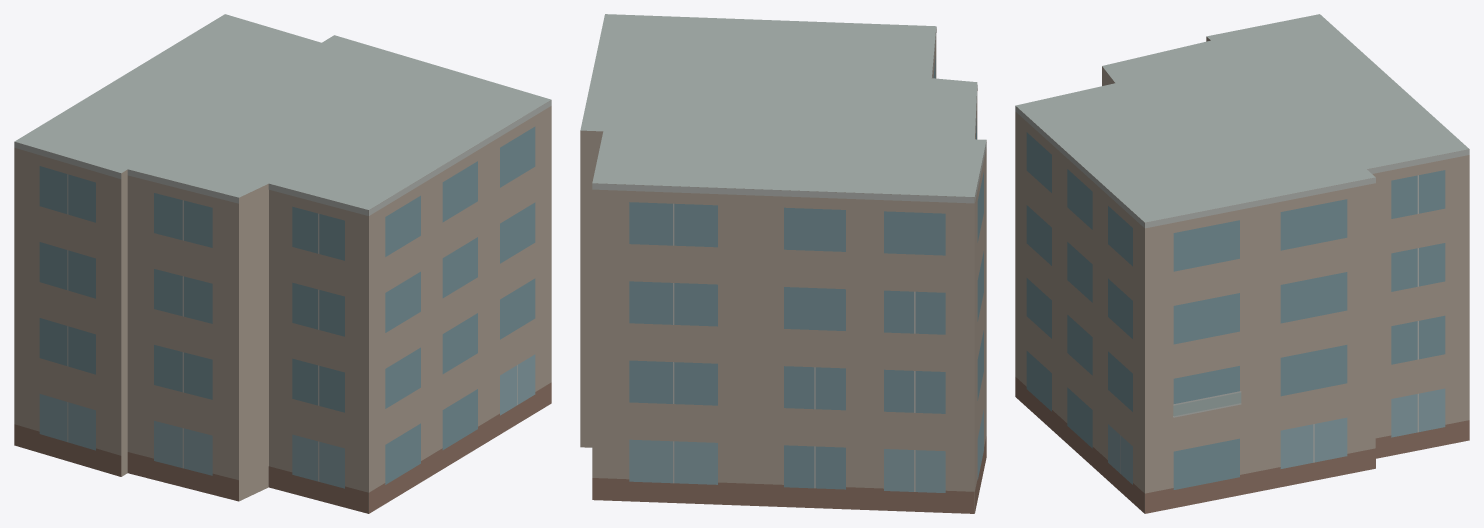
Rendered from survey-upis-33001847.glb.
The picture shows the model from 3 angles, left to right: view 1: azimuth 30°, elevation 25°; view 2: azimuth 150°, elevation 25°; view 3: azimuth 270°, elevation 25°; orthographic projection. The views are drawn at different scales.
Visible parts, largest first — view 1: survey-upis-33001847.tmp; view 2: survey-upis-33001847.tmp; view 3: survey-upis-33001847.tmp.
Part boxes in pixels (left/top/right/bottom): survey-upis-33001847.tmp: left=14, top=14, right=551, bottom=513; survey-upis-33001847.tmp: left=580, top=14, right=986, bottom=513; survey-upis-33001847.tmp: left=1015, top=14, right=1469, bottom=513.
Size of the model in its own units: 18.75 by 12.2 by 17.25.
